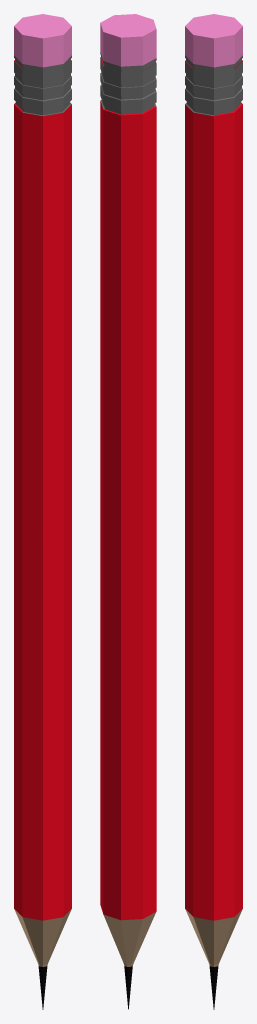
The model's file is Pencil.fbx.
The picture shows the model from 3 angles, left to right: view 1: azimuth 90°, elevation 25°; view 2: azimuth 210°, elevation 25°; view 3: azimuth 270°, elevation 25°; orthographic projection.
Parts seen in each view (by area): view 1: Eraser, Eraser.001, Niddle.001, Cylinder.001, Top.001; view 2: Eraser, Eraser.001, Niddle.001, Cylinder.001, Top.001; view 3: Eraser, Eraser.001, Niddle.001, Cylinder.001, Top.001.
Part boxes in pixels (x1,y1,x2,y2): Eraser: (14,60,71,920); Eraser.001: (14,55,71,116); Niddle.001: (14,14,71,67); Cylinder.001: (14,909,71,966); Top.001: (38,966,47,1009); Eraser: (100,57,156,920); Eraser.001: (100,52,156,114); Niddle.001: (100,14,156,66); Cylinder.001: (103,912,155,966); Top.001: (124,966,132,1009); Eraser: (185,60,242,920); Eraser.001: (185,55,242,116); Niddle.001: (185,14,242,67); Cylinder.001: (185,909,242,966); Top.001: (209,966,218,1009).
Bounding box in the file's own units: 8.06 × 151 × 8.06.
